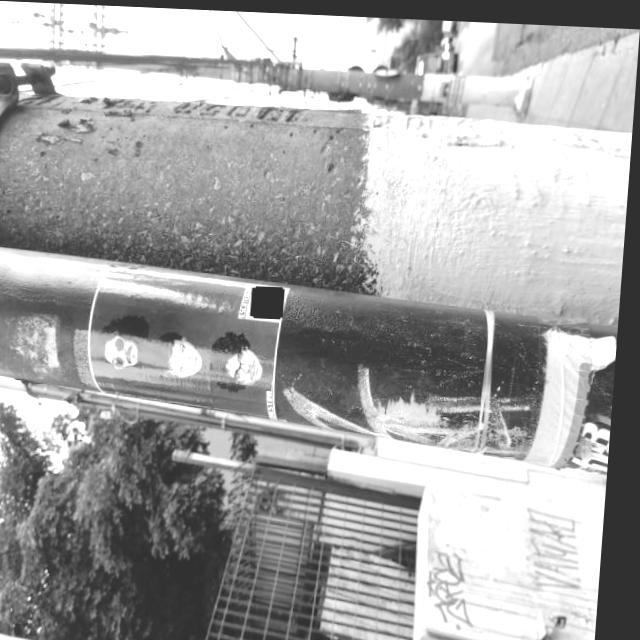qr_code: (256, 284, 288, 315)
